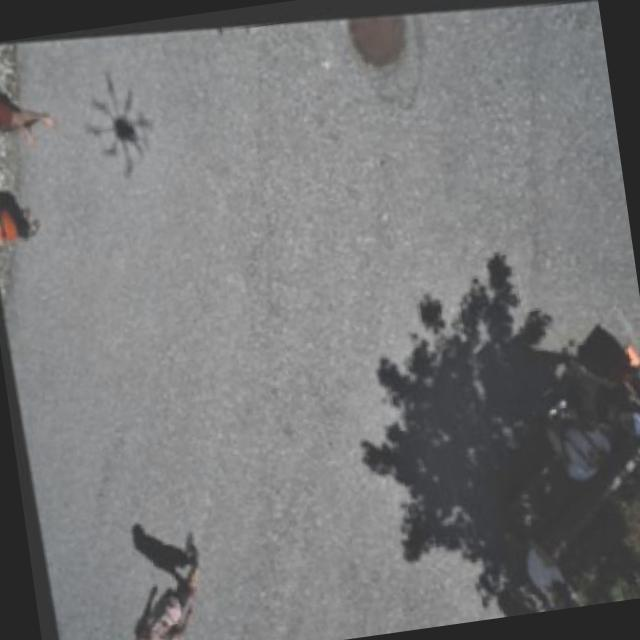Person: (107, 526, 221, 640), (0, 45, 62, 158), (0, 174, 45, 256)
